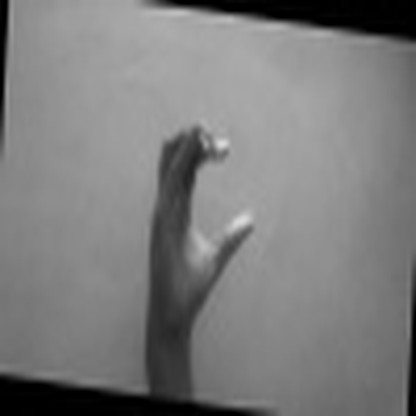c: (145, 114, 258, 313)
